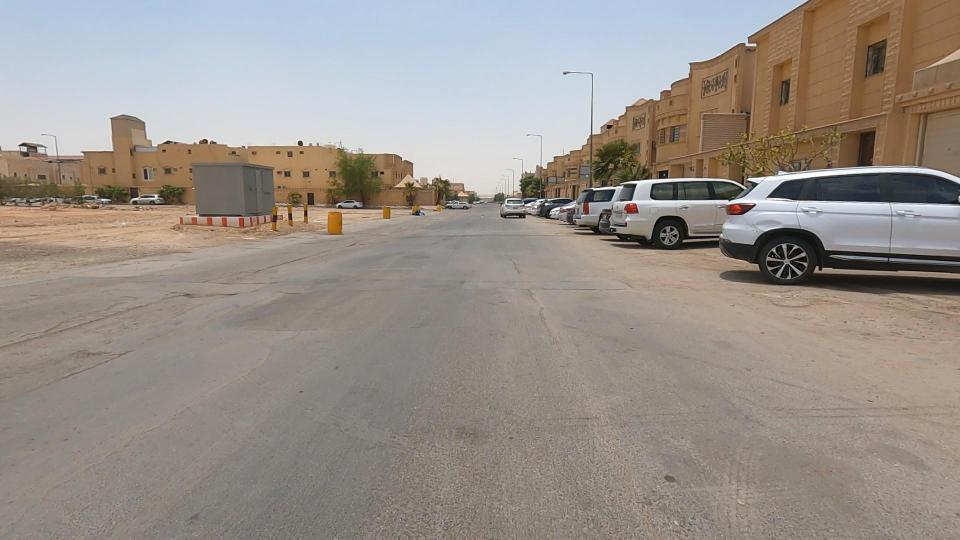GARBAGE: (386, 202, 445, 226)
